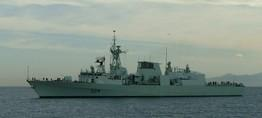warship: (26, 26, 246, 98)
